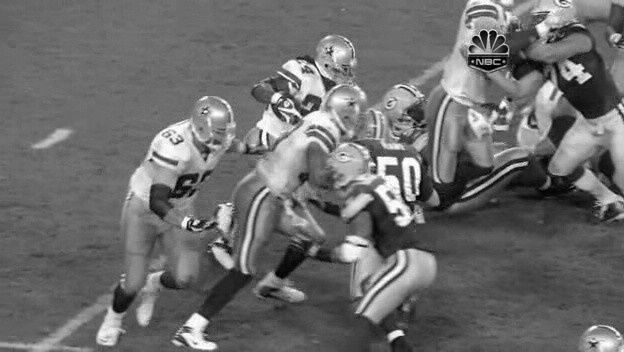person: (323, 32, 358, 77), (322, 32, 357, 77), (324, 32, 359, 77), (323, 31, 358, 76), (323, 33, 358, 78)
target_negative: (30, 77, 494, 306), (500, 36, 614, 242), (364, 185, 550, 309), (280, 289, 465, 340), (574, 130, 589, 232), (527, 162, 600, 172)
